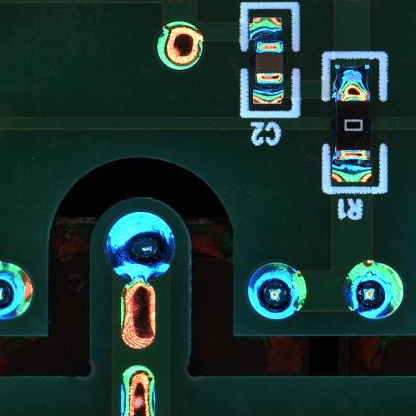spot: (105, 210, 178, 281), (344, 260, 405, 319), (249, 259, 307, 319), (1, 261, 33, 322)
